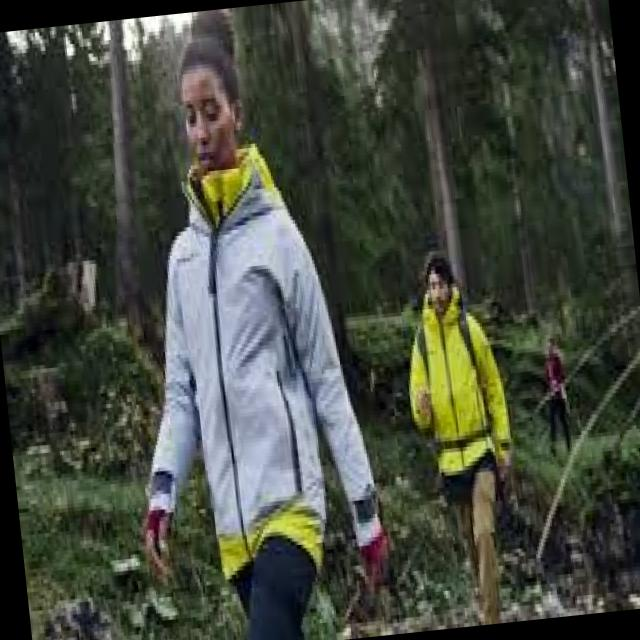Jacket: (105, 163, 382, 557), (396, 302, 514, 504)
